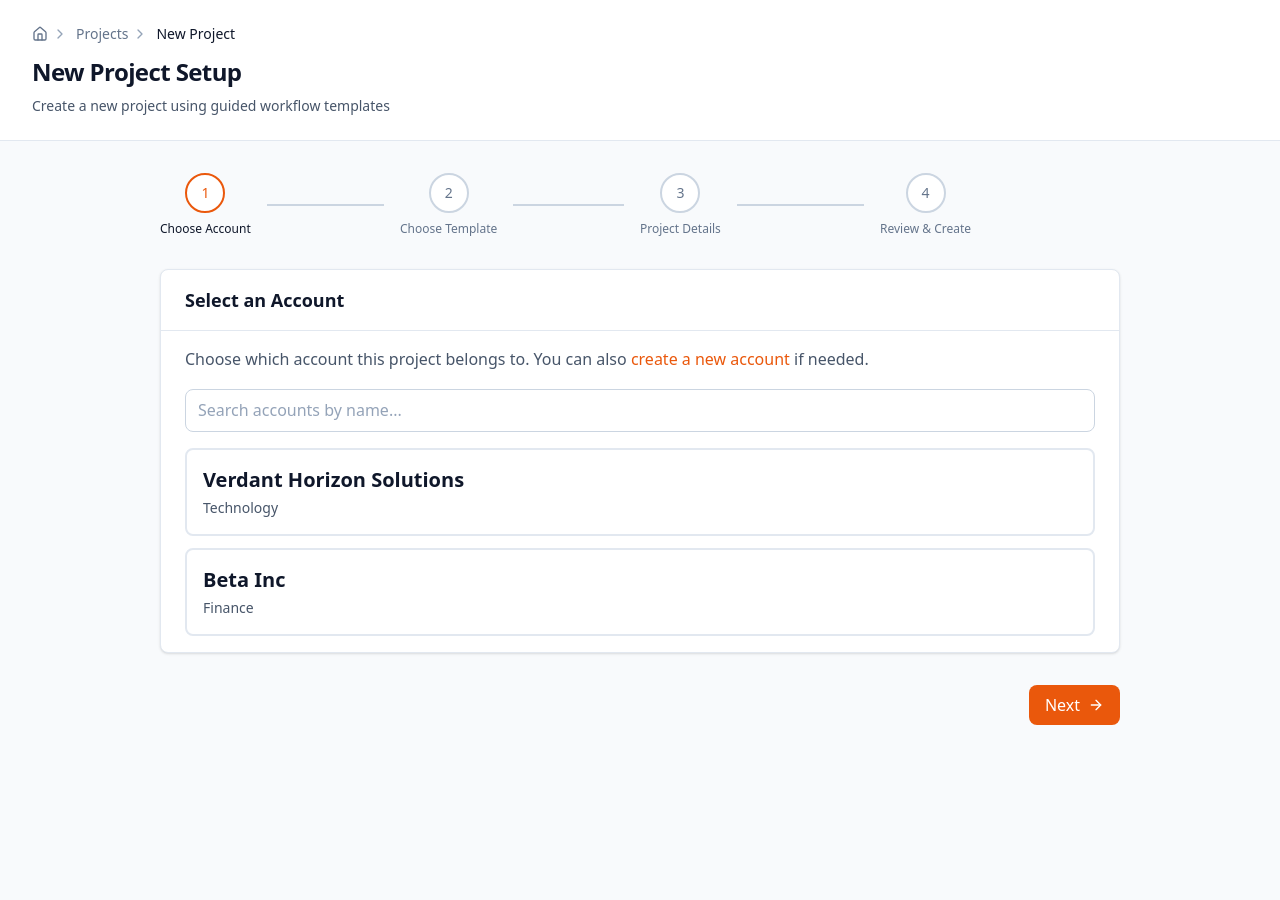
Test: Project Setup Flow › allows selecting an account
This screenshot has width=1280, height=900.
expect the heading "Verdant Horizon Solutions" is shown: met, box 203,466 -> 464,494
Click the button "Verdant Horizon Solutions Technology".
click(334, 480)  # box 185,448 -> 1095,536
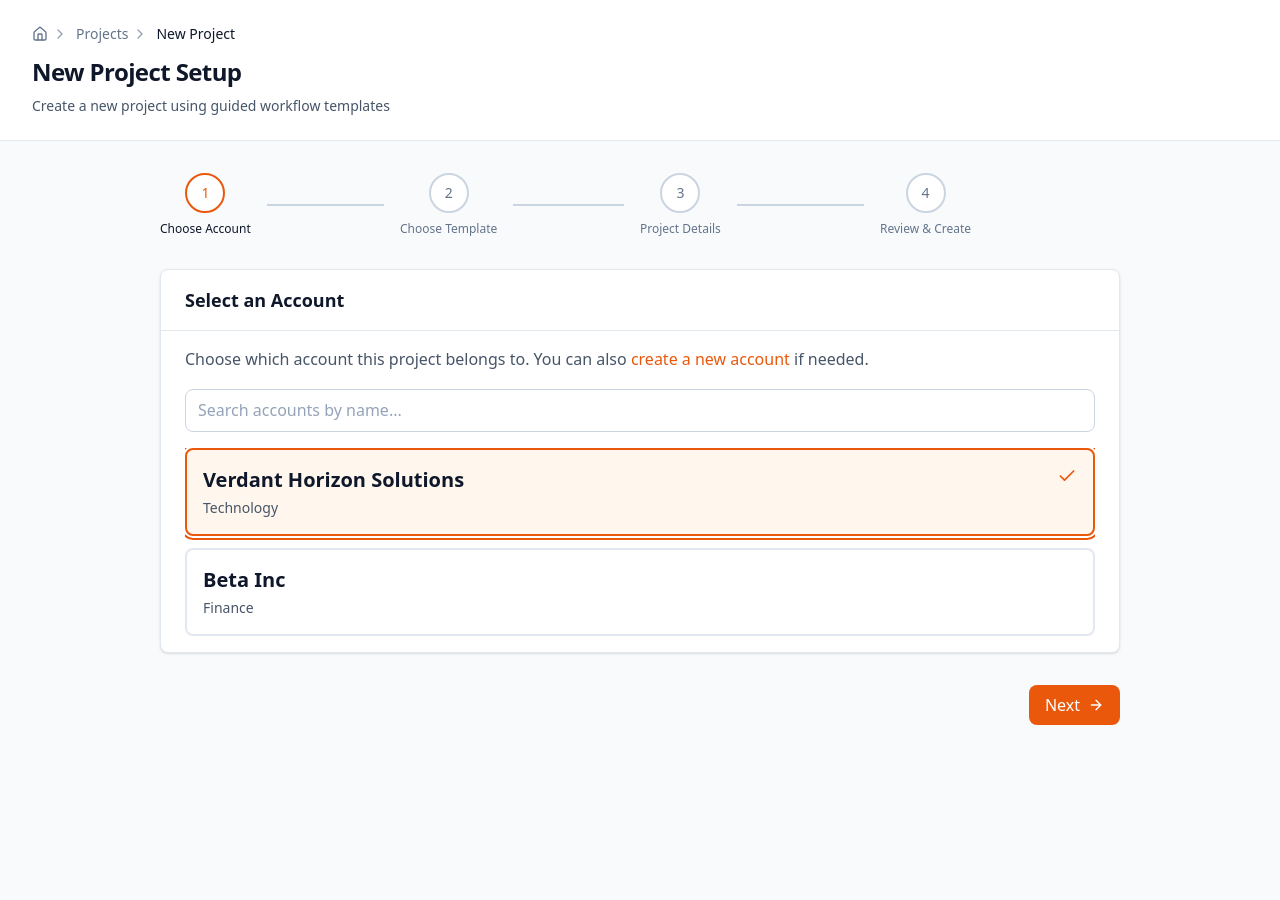
expect the button "Verdant Horizon Solutions Technology" has class "border-primary-600": met, box 185,448 -> 1095,536
// Proceed to next step
Click the button "Next".
click(1074, 705)  # box 1029,685 -> 1120,725
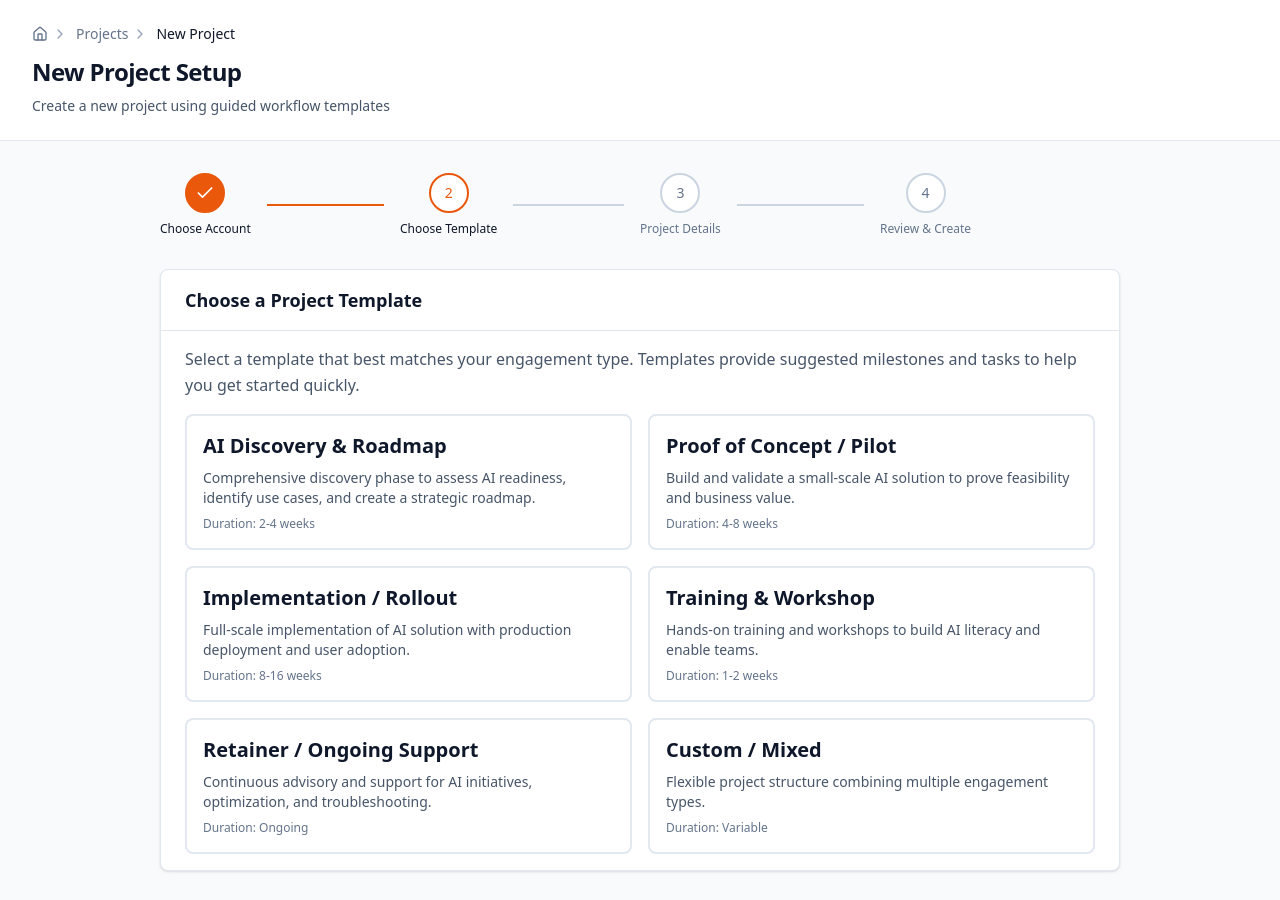
expect the heading "Choose a Project Template" is shown: met, box 185,288 -> 422,312
